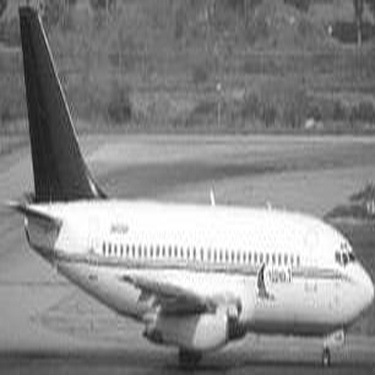airplane: (7, 2, 370, 372)
